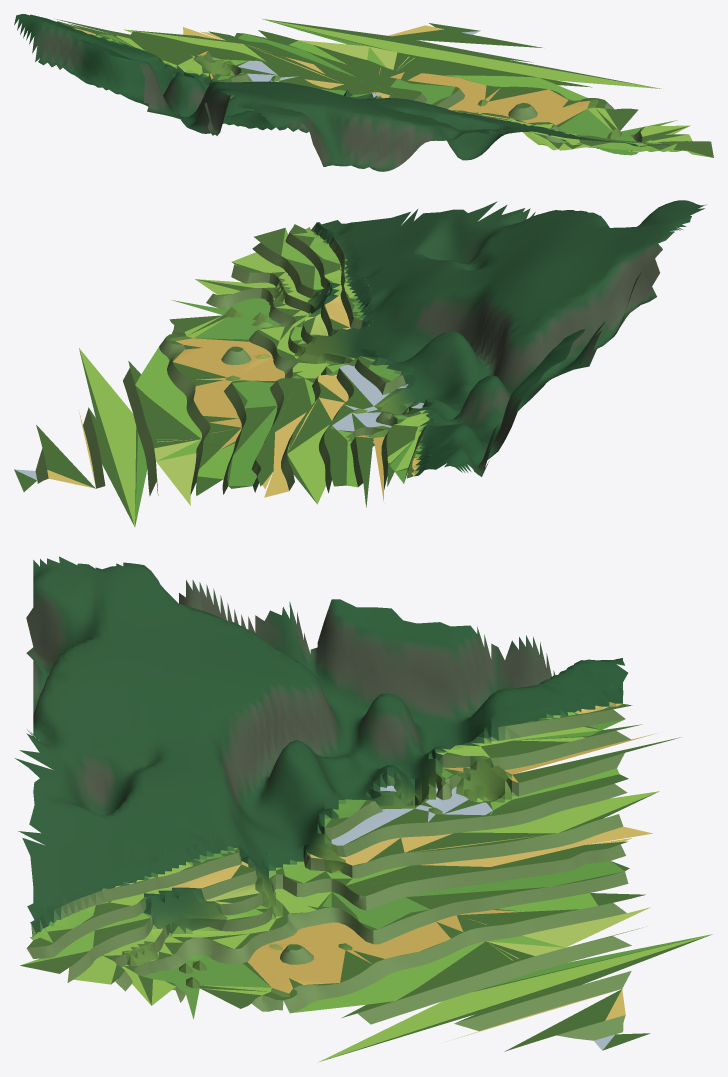
Rendered from payo_land_xm2_y6.glb.
3 renders of one model, top to bottom at view 1: azimuth 30°, elevation 25°; view 2: azimuth 150°, elevation 25°; view 3: azimuth 270°, elevation 25°, orthographic. The views are drawn at different scales.
Parts seen in each view (by area): view 1: payo_land_xm2_y6; view 2: payo_land_xm2_y6; view 3: payo_land_xm2_y6.
Part boxes in pixels (left/top/right/bottom): payo_land_xm2_y6: left=14, top=14, right=713, bottom=171; payo_land_xm2_y6: left=14, top=200, right=705, bottom=526; payo_land_xm2_y6: left=14, top=556, right=712, bottom=1062.
Bounding box in the file's own units: 301 × 112 × 303.
